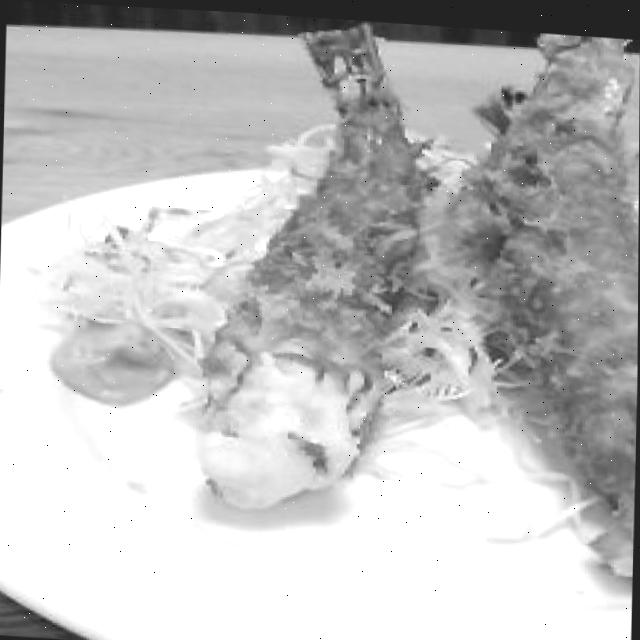炸货点心: (139, 6, 640, 618)
熟制海鲜: (139, 6, 640, 618)
